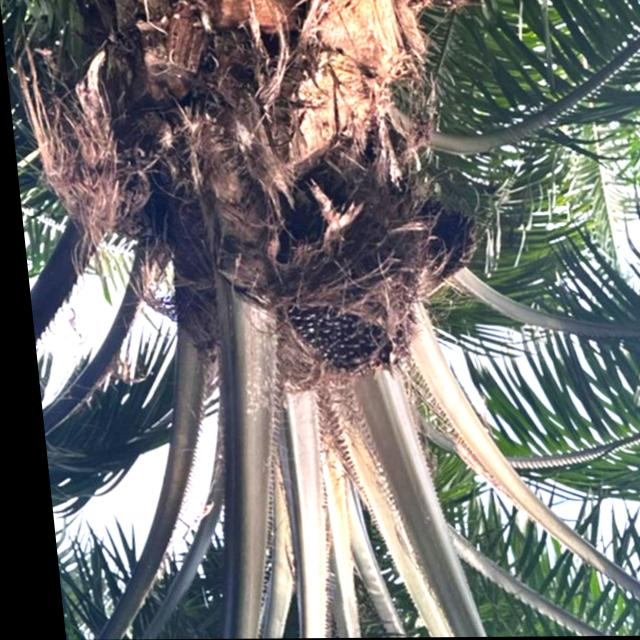ripe: (260, 278, 415, 385)
